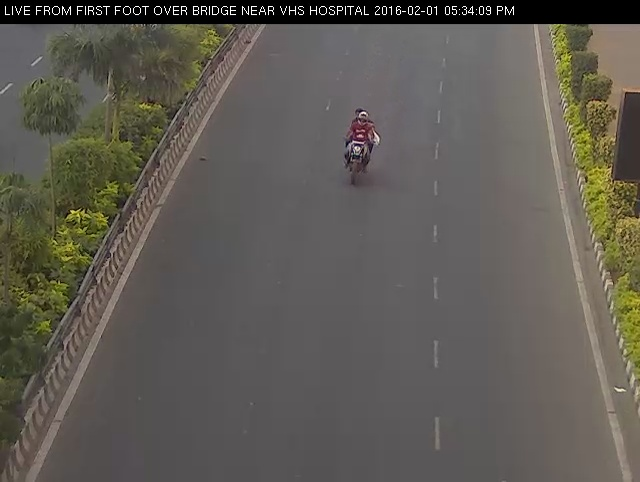Person: (333, 100, 388, 198)
